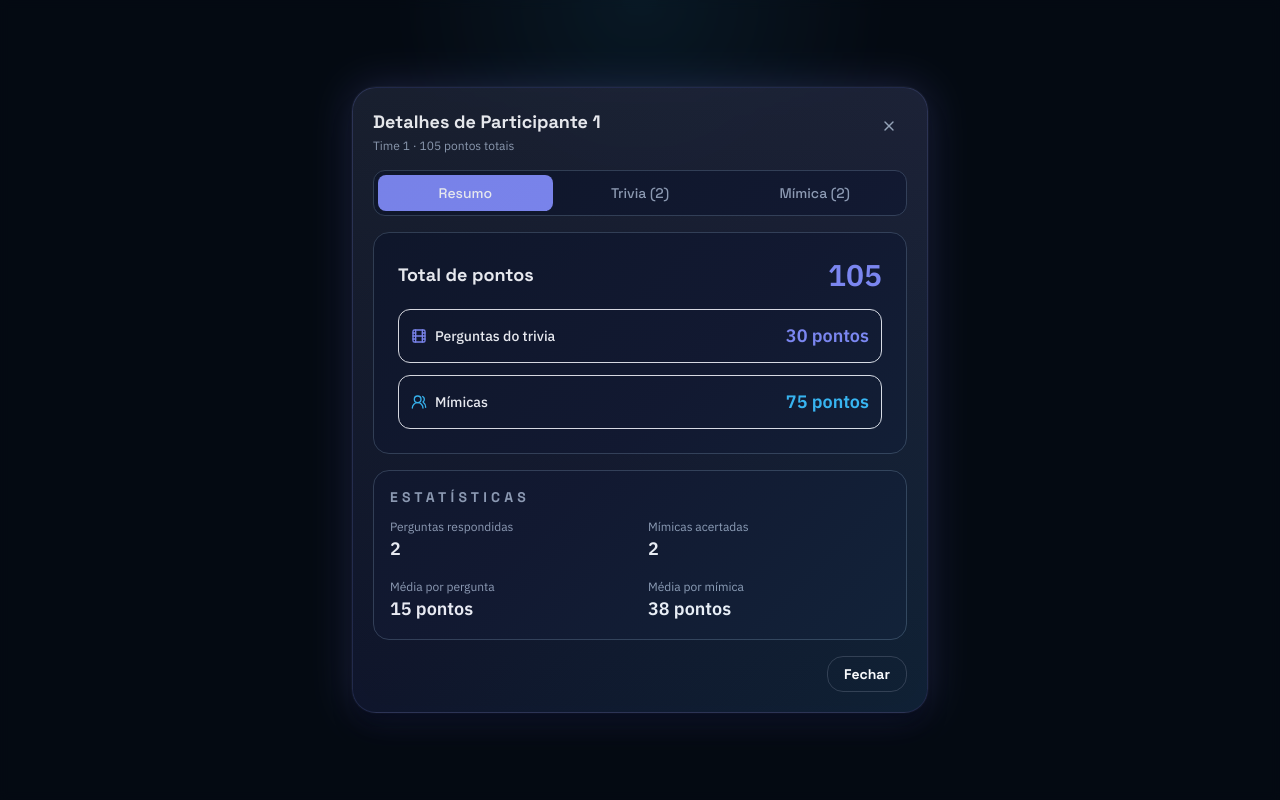
ScoreDetailView › deve mostrar aba de Mimica com mímicas acertadas
This screenshot has width=1280, height=800.
What coordinates should you click on to do the following:
click the button "Mímica (2)"
I would click on:
 (815, 193)
Its box is [727, 175, 902, 211].
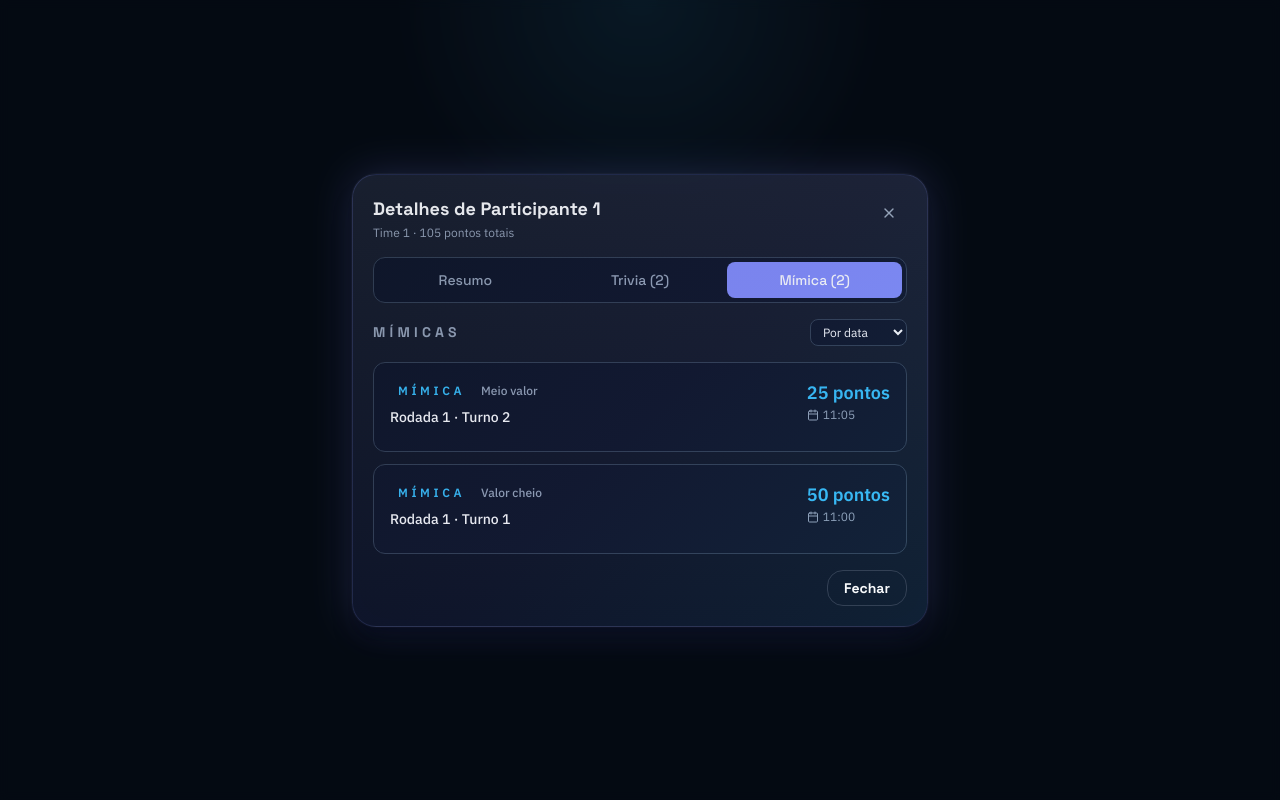
Now the text "Rodada 1 · Turno 1" is shown, box [390, 510, 510, 528]
Now the text "Rodada 1 · Turno 2" is shown, box [390, 408, 510, 426]
Now the text "50 pontos" is shown, box [807, 480, 890, 508]
